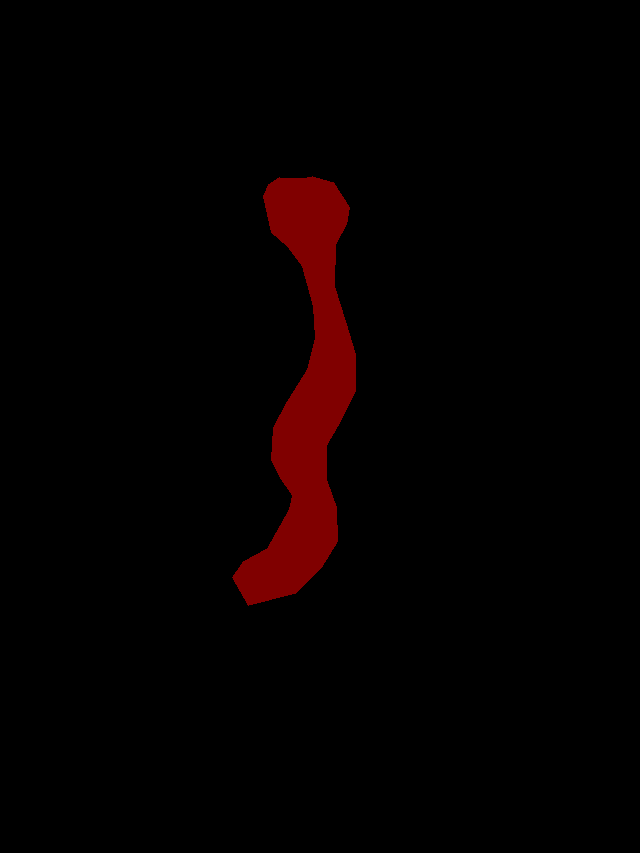fire: (232, 176, 355, 605)
